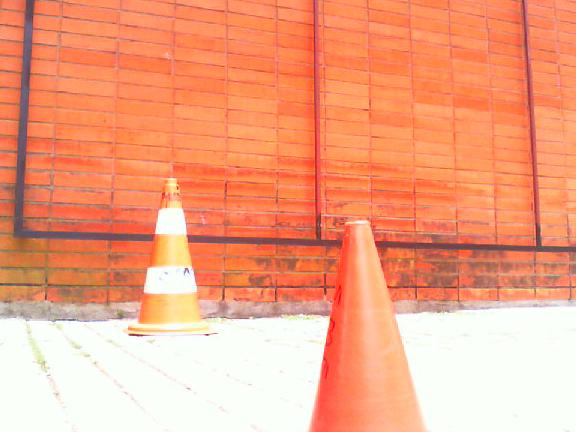0 cone: (305, 220, 428, 432), (127, 179, 218, 336)
